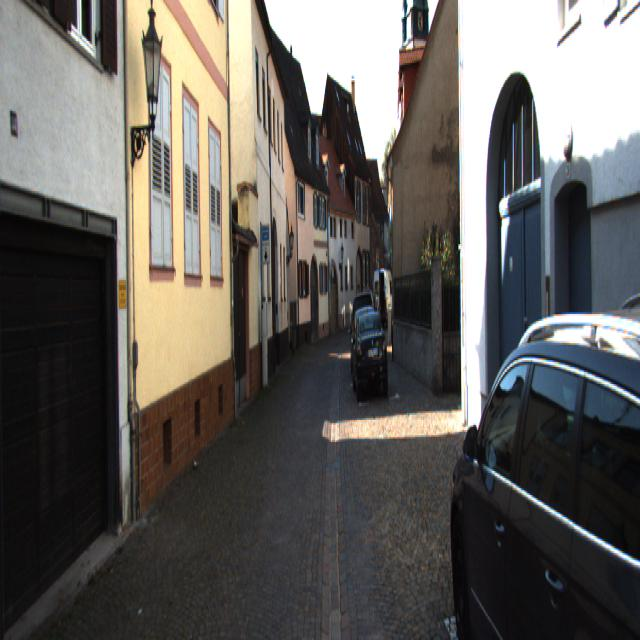Car: (448, 307, 640, 638), (351, 304, 388, 394), (374, 266, 396, 328)
